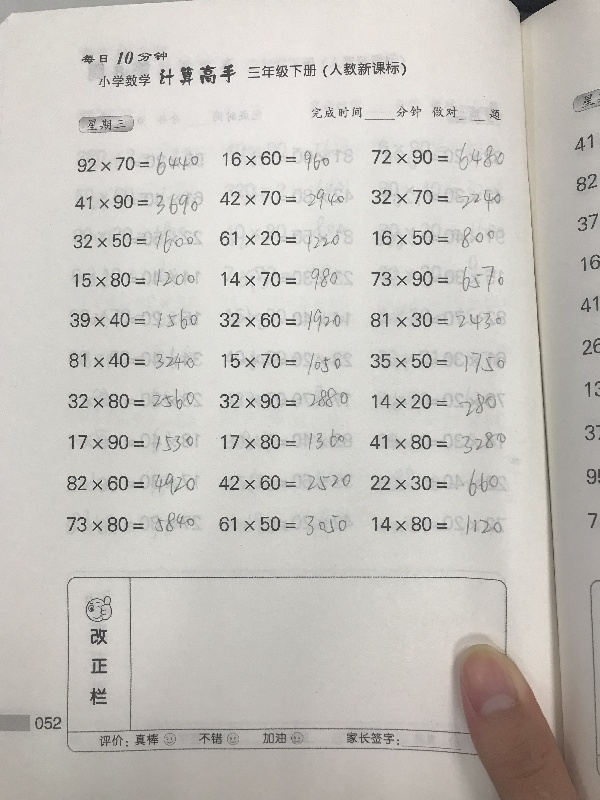equation: (369, 140, 507, 176), (365, 508, 512, 540), (368, 262, 508, 292), (74, 148, 203, 180), (63, 470, 200, 499), (70, 227, 198, 258), (214, 511, 349, 540), (67, 305, 202, 334), (65, 385, 199, 414), (217, 305, 345, 335), (368, 186, 505, 214), (367, 428, 509, 455), (368, 390, 500, 419), (366, 347, 507, 374), (217, 427, 348, 456), (216, 385, 351, 413), (366, 466, 499, 494), (218, 349, 344, 378), (64, 509, 199, 536), (369, 223, 499, 251), (72, 191, 202, 219), (217, 185, 349, 212), (64, 429, 201, 455), (217, 262, 347, 289), (367, 309, 504, 334), (216, 471, 355, 495), (65, 348, 198, 372), (218, 145, 333, 172), (215, 226, 343, 250), (69, 267, 198, 290)
